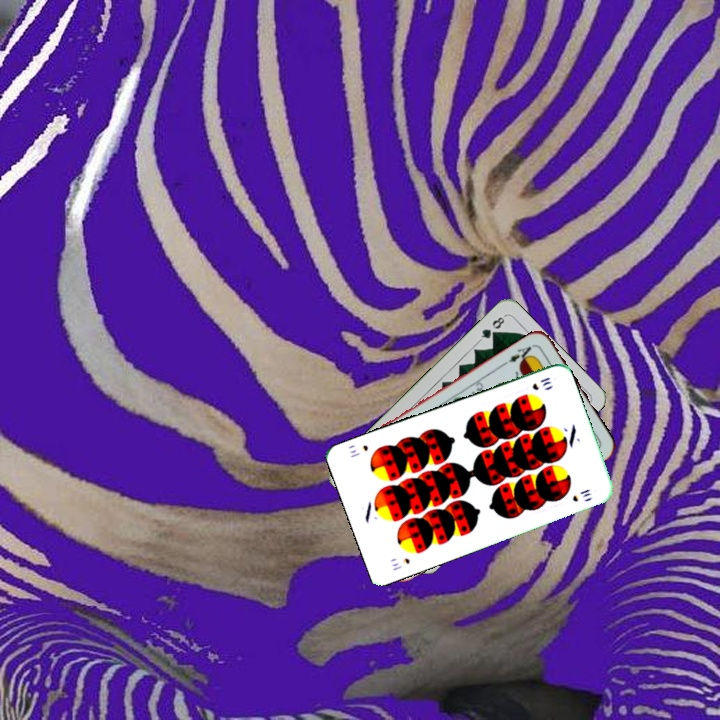EA: (500, 340, 537, 367)
G8: (475, 312, 508, 344)
S10: (528, 373, 554, 393), (388, 554, 412, 573)
